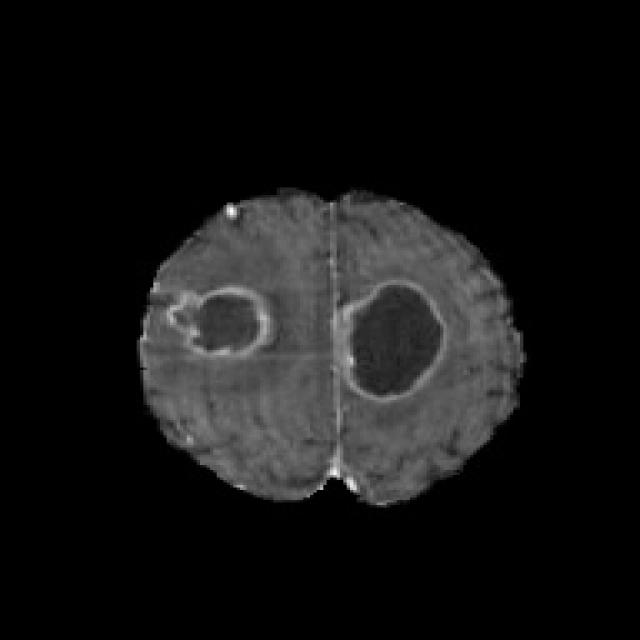positive: (345, 270, 445, 402), (167, 284, 273, 356)
